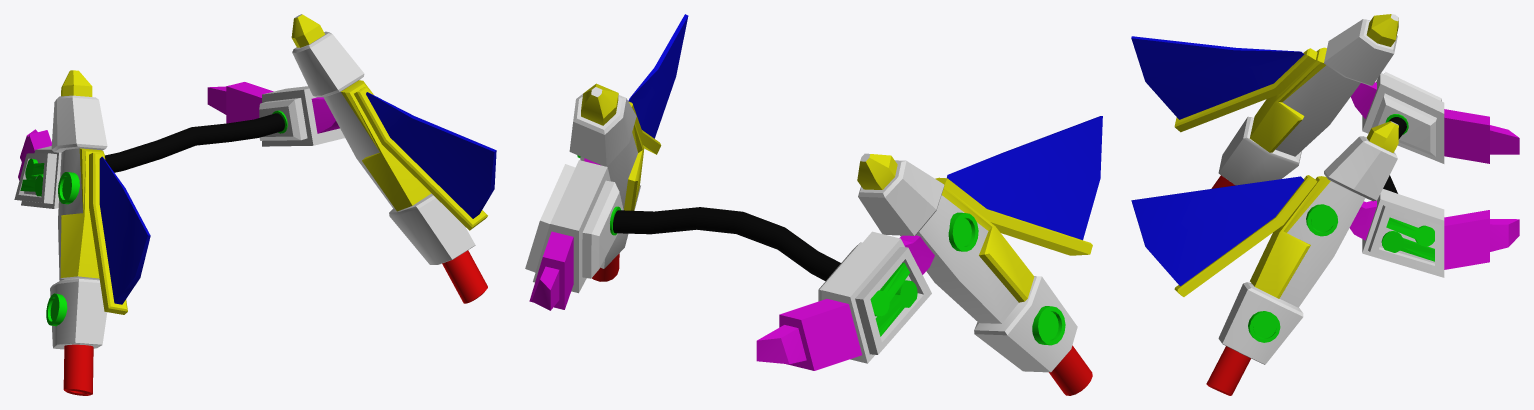
Rendered from Protogen_jump_pack.fbx.
3 renders of one model, left to right at view 1: azimuth 30°, elevation 25°; view 2: azimuth 150°, elevation 25°; view 3: azimuth 270°, elevation 25°, orthographic. The views are drawn at different scales.
Visible parts, largest first — view 1: Cube; view 2: Cube; view 3: Cube.
Part boxes in pixels (x1,y1,x2,y2): Cube: (14, 14, 496, 395); Cube: (525, 14, 1102, 395); Cube: (1131, 14, 1519, 395).
Size of the model in its own units: 38.76 by 46.91 by 25.93.
